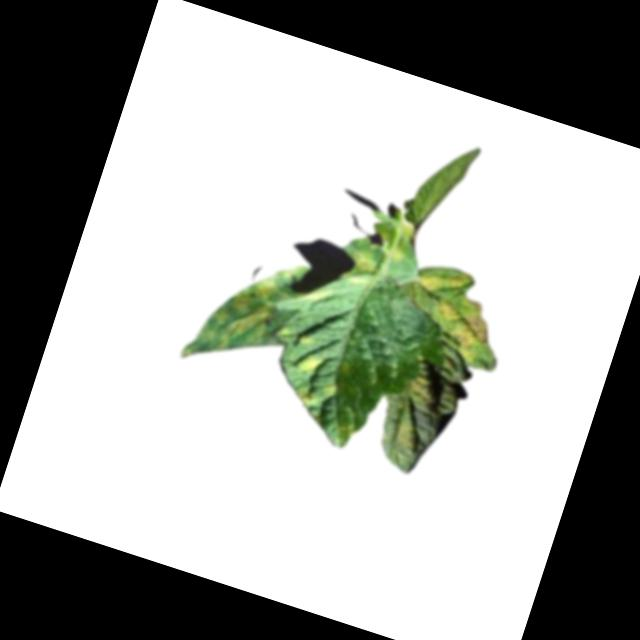Leaf_Mold: (178, 239, 305, 382), (400, 260, 505, 366), (398, 365, 462, 418), (382, 414, 424, 456), (343, 244, 382, 280), (290, 347, 322, 377)
